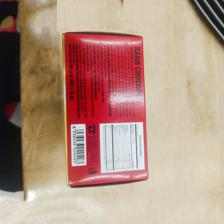Chocopie: (60, 30, 151, 189)
